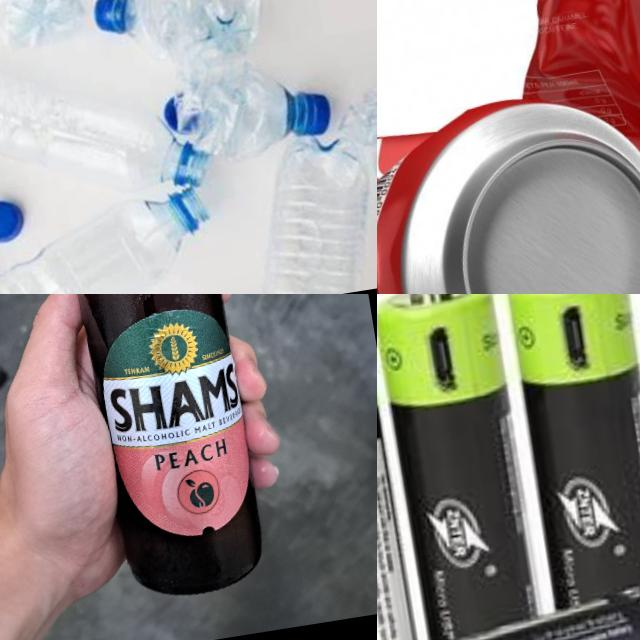bateria: (377, 294, 544, 640), (506, 294, 640, 617), (377, 294, 418, 640)
garrafa de vidro: (37, 294, 272, 605)
garrafa plástica: (0, 12, 216, 233), (0, 182, 225, 294), (234, 127, 377, 294), (164, 55, 300, 167), (118, 0, 269, 74), (337, 67, 377, 212), (0, 0, 91, 53)
lata: (377, 74, 640, 294), (478, 0, 640, 294)
tampa plástica: (163, 91, 200, 138), (90, 0, 126, 36), (307, 90, 334, 136), (0, 199, 27, 244)
